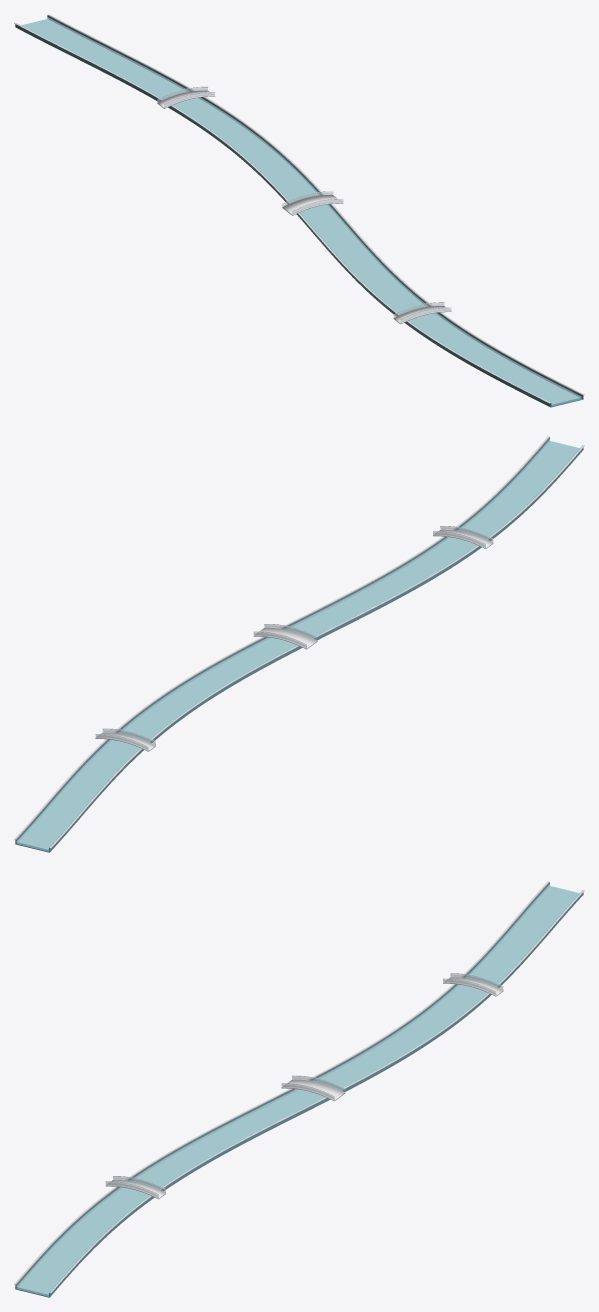
Rendered from riviere.glb.
The picture shows the model from 3 angles, top to bottom: view 1: azimuth 30°, elevation 25°; view 2: azimuth 150°, elevation 25°; view 3: azimuth 330°, elevation 25°; orthographic projection. The views are drawn at different scales.
Visible parts, largest first — view 1: Riviere_eau, Riviere_fond, Riviere_parD, Riviere_parG, Riviere_mgG, Riviere_mgD, Pont_Central_tablier; view 2: Riviere_eau, Riviere_fond, Riviere_parD, Riviere_parG, Riviere_mgG, Riviere_mgD, Pont_Central_tablier; view 3: Riviere_eau, Riviere_fond, Riviere_parG, Riviere_parD, Riviere_mgD, Riviere_mgG, Pont_Central_tablier.
Part boxes in pixels (box(x1,y1,x2,y2)): Riviere_eau: box(19, 17, 581, 404); Riviere_fond: box(15, 19, 583, 407); Riviere_parD: box(47, 15, 583, 398); Riviere_parG: box(15, 23, 551, 406); Riviere_mgG: box(14, 22, 550, 403); Riviere_mgD: box(48, 14, 584, 395); Pont_Central_tablier: box(282, 195, 343, 215); Riviere_eau: box(16, 439, 580, 849); Riviere_fond: box(16, 441, 583, 852); Riviere_parD: box(15, 437, 549, 844); Riviere_parG: box(49, 445, 583, 851); Riviere_mgG: box(49, 445, 584, 848); Riviere_mgD: box(14, 436, 549, 839); Pont_Central_tablier: box(253, 627, 317, 649); Riviere_eau: box(16, 884, 580, 1294); Riviere_fond: box(15, 886, 582, 1297); Riviere_parG: box(15, 882, 549, 1288); Riviere_parD: box(49, 890, 583, 1296); Riviere_mgD: box(49, 890, 584, 1293); Riviere_mgG: box(14, 881, 549, 1284); Pont_Central_tablier: box(281, 1079, 345, 1101).
Bounding box in the file's own units: 24.12 × 3.05 × 232.
